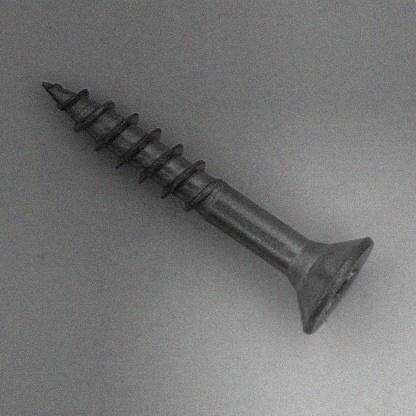metal: (40, 78, 377, 337)
